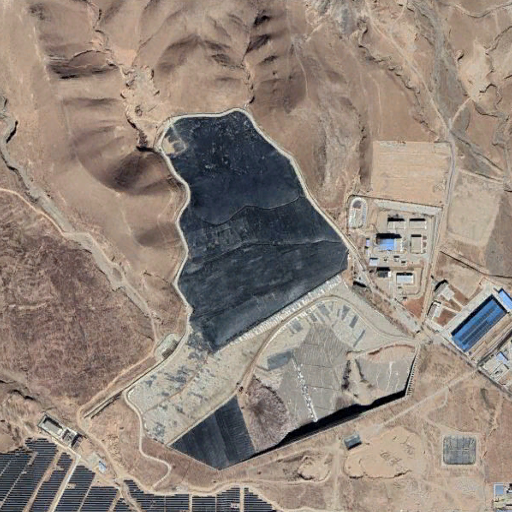lf: (158, 108, 420, 471)
